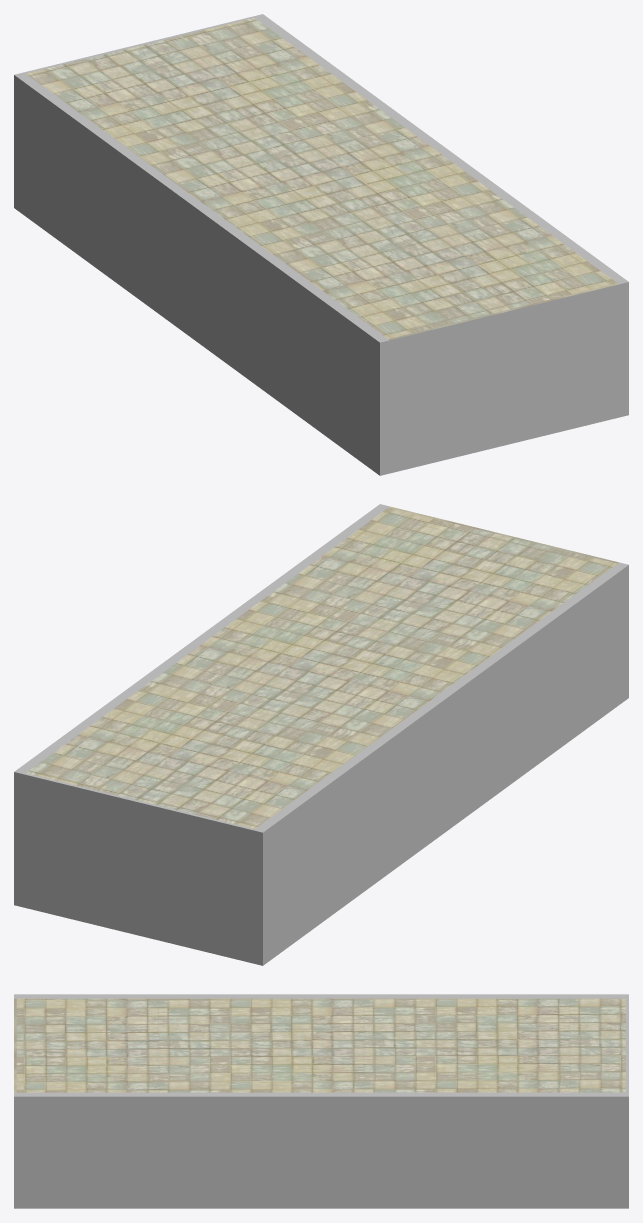
File: road_w02c.fbx
The picture shows the model from 3 angles, top to bottom: view 1: azimuth 30°, elevation 25°; view 2: azimuth 150°, elevation 25°; view 3: azimuth 270°, elevation 25°; orthographic projection. The views are drawn at different scales.
Visible parts, largest first — view 1: road_w02c; view 2: road_w02c; view 3: road_w02c.
Part boxes in pixels (x1=…): road_w02c: x1=14, y1=14, x2=628, y2=475; road_w02c: x1=14, y1=504, x2=628, y2=965; road_w02c: x1=14, y1=994, x2=628, y2=1208.
Bounding box in the file's own units: 4.34 × 2.22 × 11.06.
